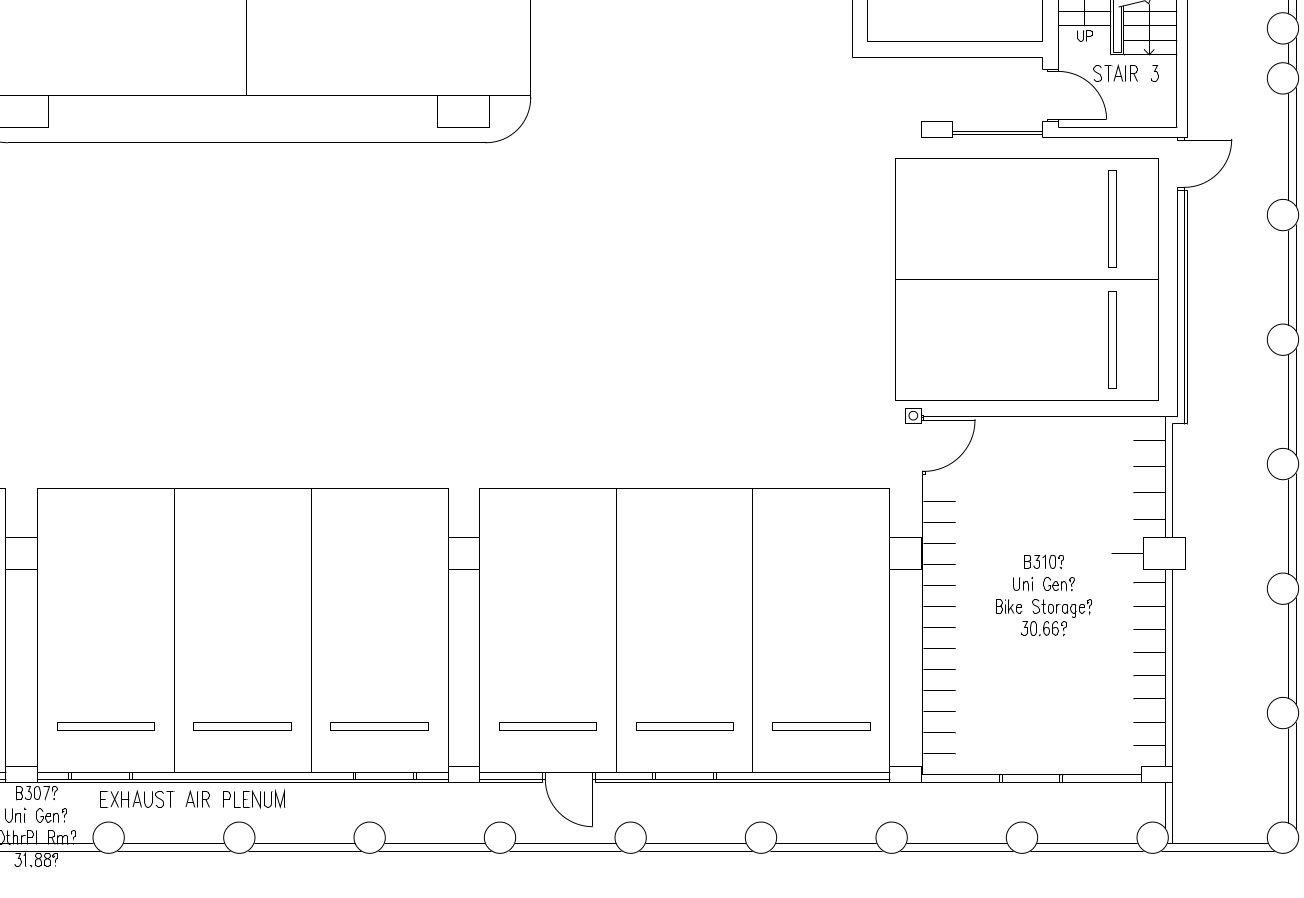door: (920, 418, 978, 480), (1178, 129, 1236, 191), (1049, 61, 1107, 123), (544, 765, 596, 834)
